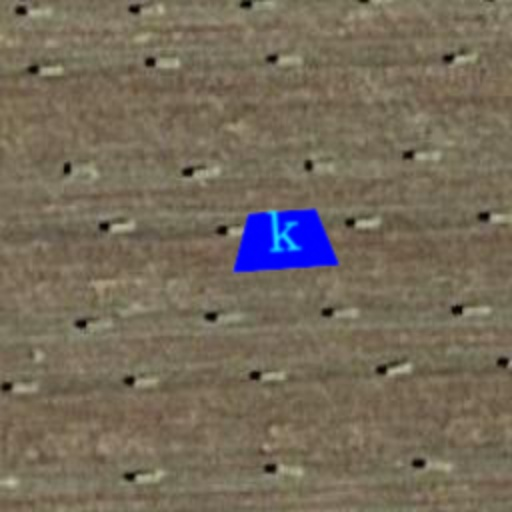trapezoid: (226, 182, 342, 298)
